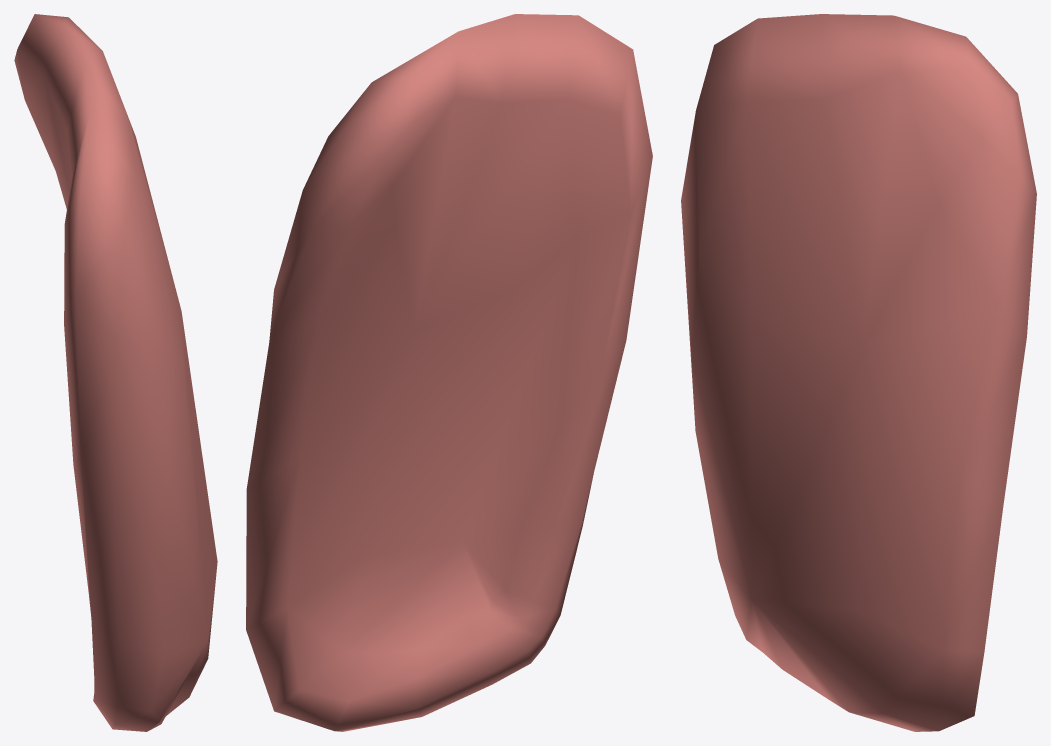
3 views of the same model, side by side, from view 1: azimuth 30°, elevation 25°; view 2: azimuth 150°, elevation 25°; view 3: azimuth 270°, elevation 25° (orthographic). The views are drawn at different scales.
Visible parts, largest first — view 1: ZA_c0eeb0585660fe37; view 2: ZA_c0eeb0585660fe37; view 3: ZA_c0eeb0585660fe37.
Boxes of the visible parts, <box> form: ZA_c0eeb0585660fe37: <box>14,14,217,731</box>; ZA_c0eeb0585660fe37: <box>246,14,652,731</box>; ZA_c0eeb0585660fe37: <box>681,14,1036,731</box>.
Bounding box in the file's own units: 0.00145 × 0.00379 × 0.00183.
